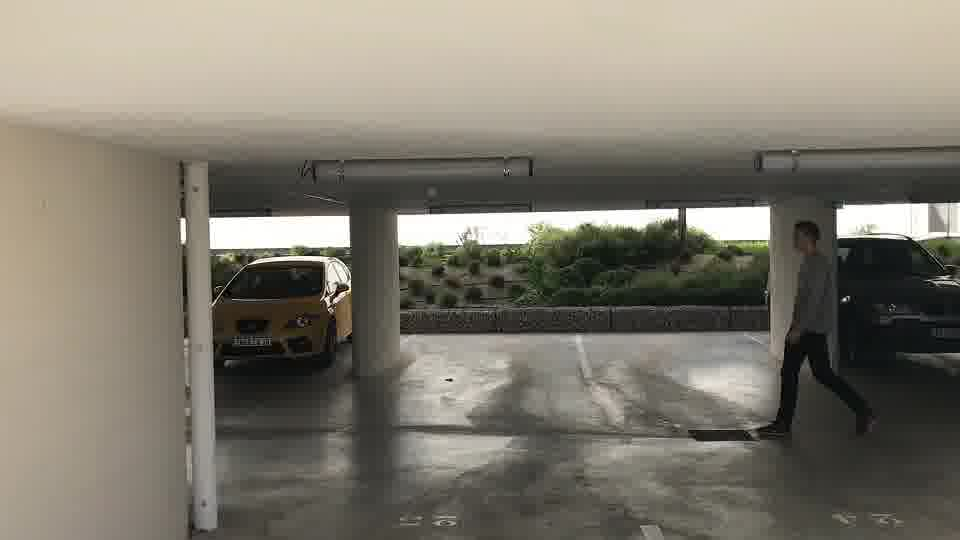jugador: (745, 218, 876, 450)
